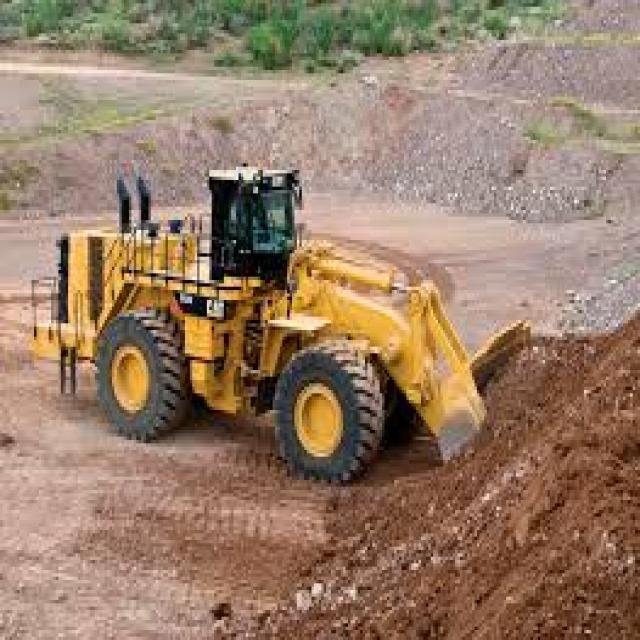buldozerpayloadergrader: (30, 150, 532, 494)
